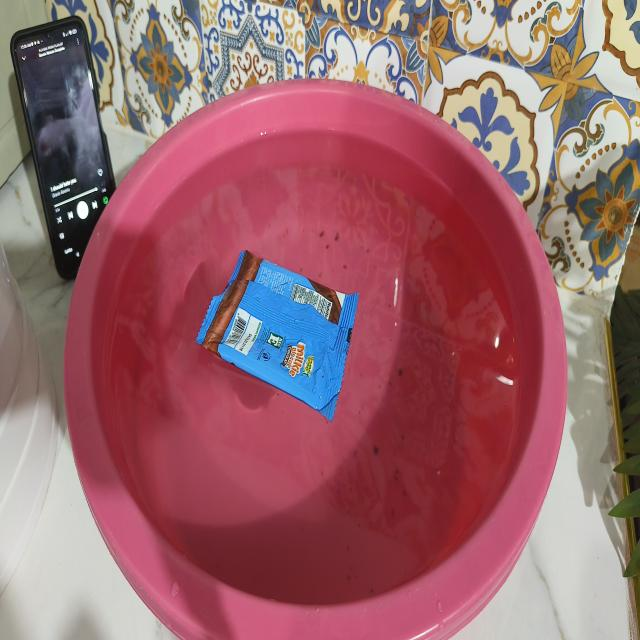Plastic Wrapper: (196, 251, 358, 421)
